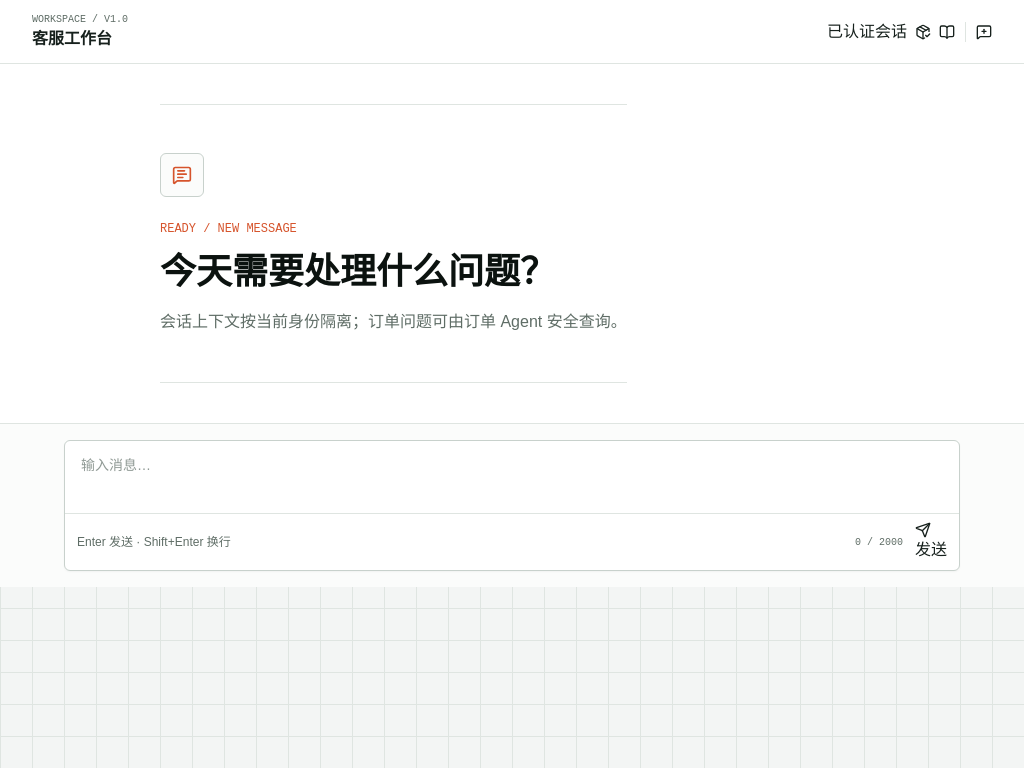
Test: ChatWorkspace › announces stream phase changes and lets the user cancel and retry
Type "取消测试" into the text box labelled "输入消息" at coordinates (512, 477), box [65,441,959,513]
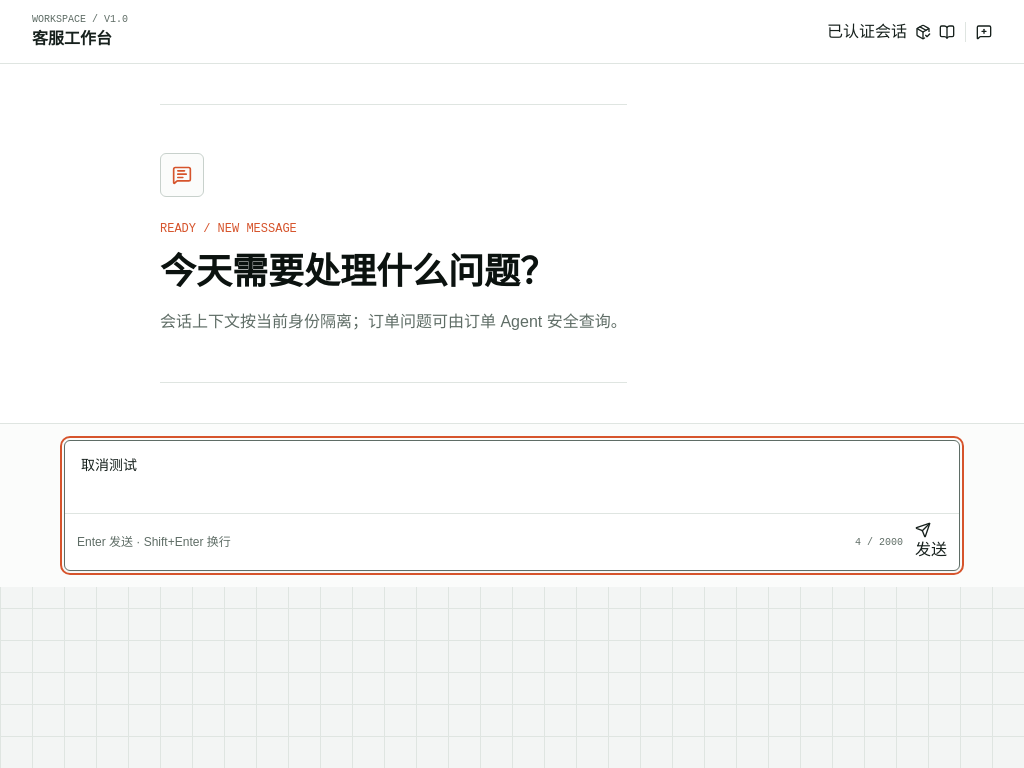
Click the button with aria-label "发送消息" at coordinates (931, 542), box [915,522,947,562]
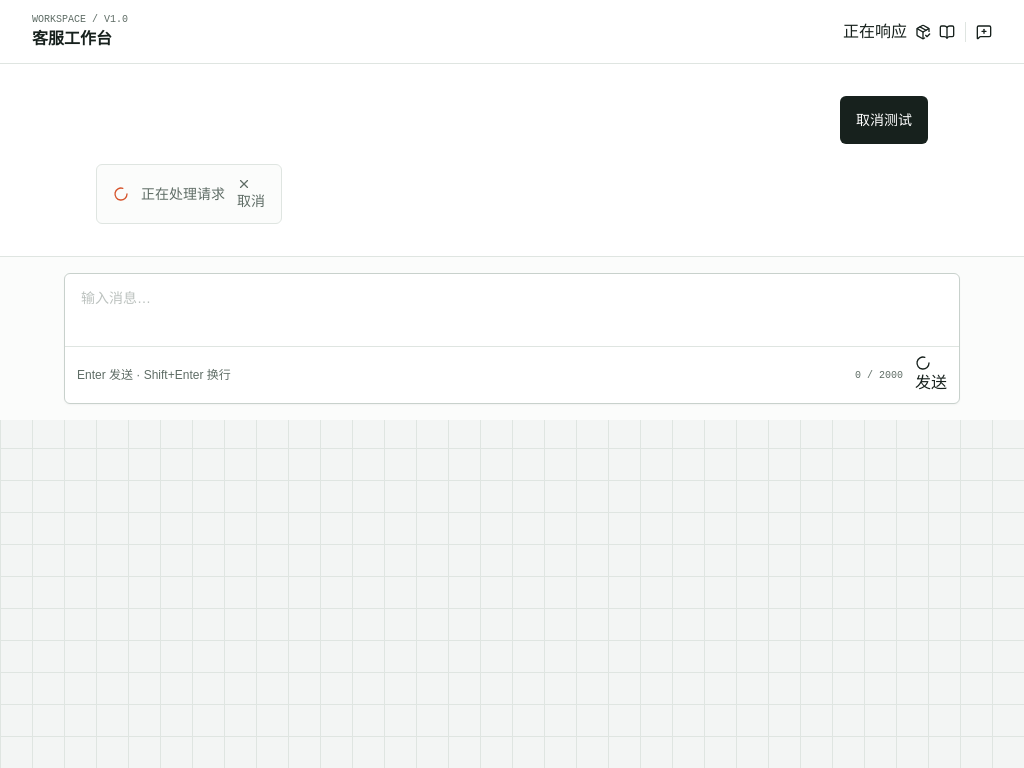
Now the message shows "正在处理请求", box [141,186,225,202]
Click the button with aria-label "取消回复" at coordinates (251, 194), box [237,177,265,211]
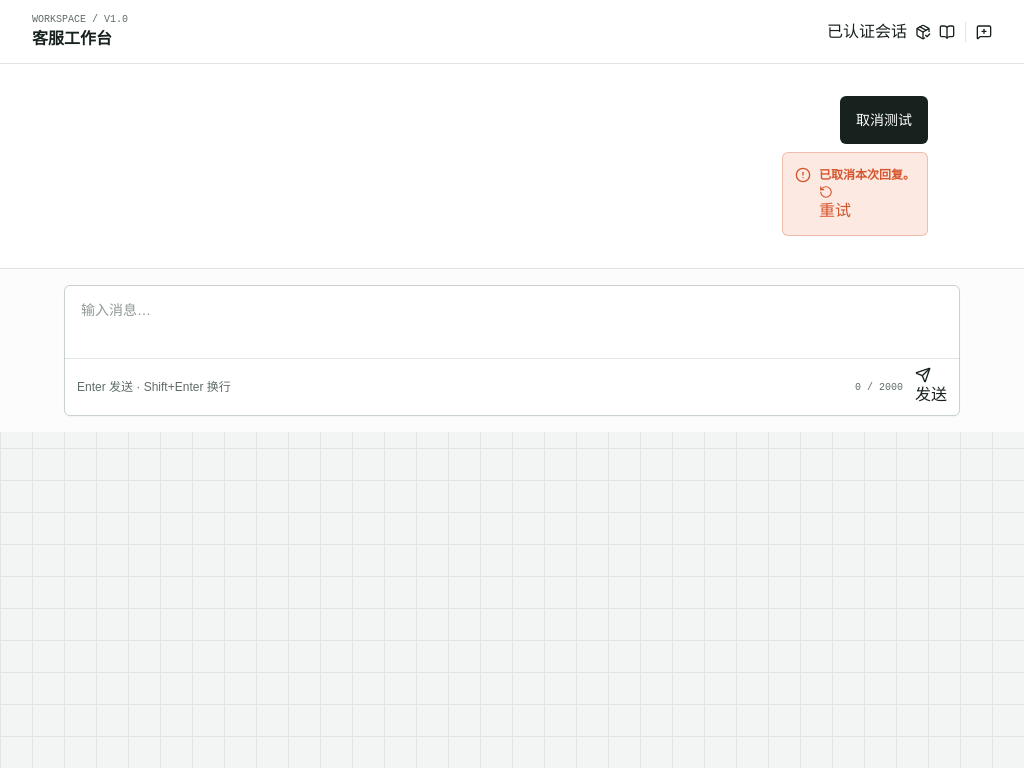
Now the message shows "已取消本次回复。", box [819,168,915,182]
Click the button with aria-label "重试这条消息" at coordinates (835, 204), box [819,185,851,223]
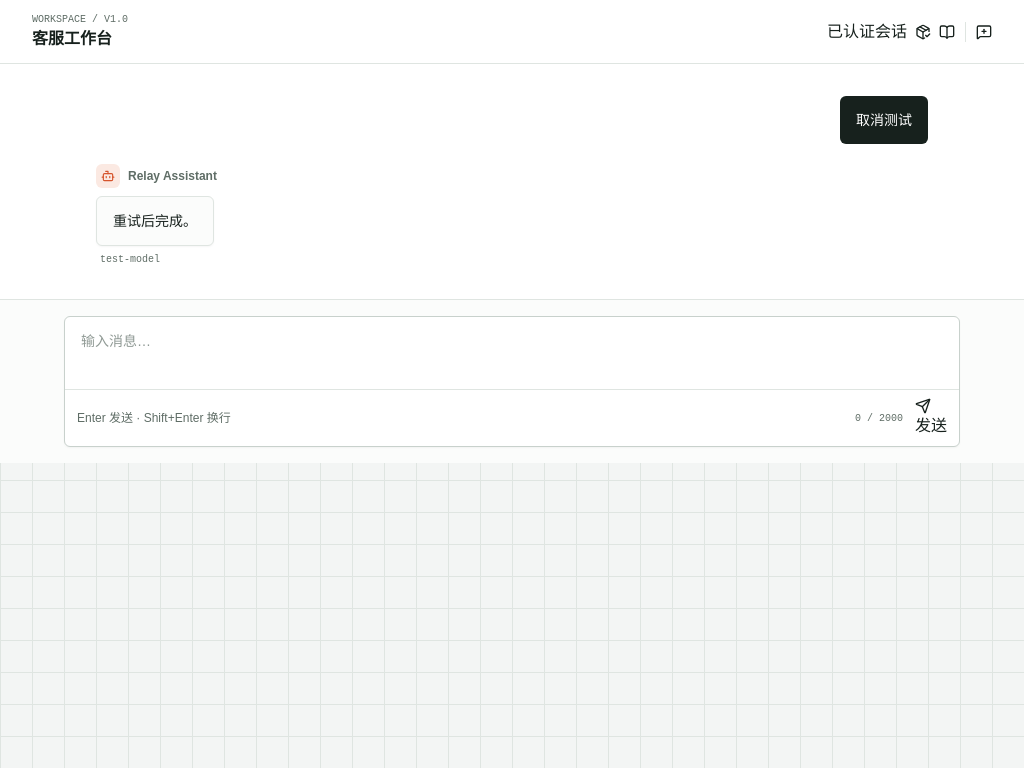
Now the text "重试后完成。" is shown, box [96,196,214,246]
